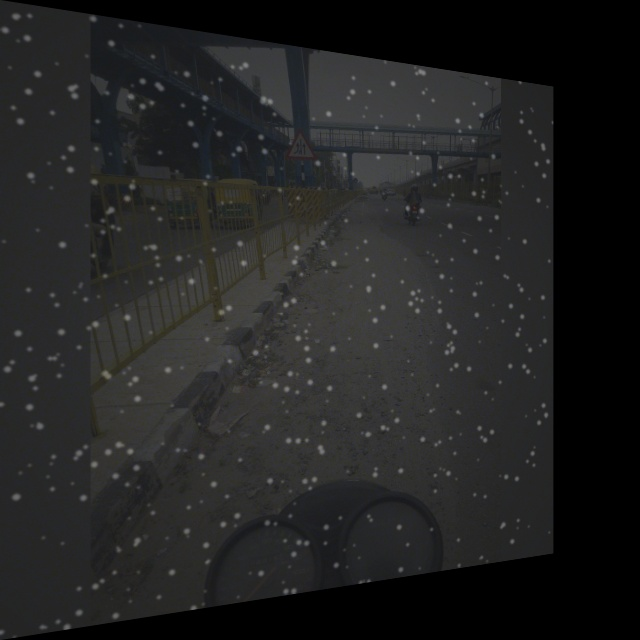Merge_Traffic_Ahead: (282, 119, 319, 164)
